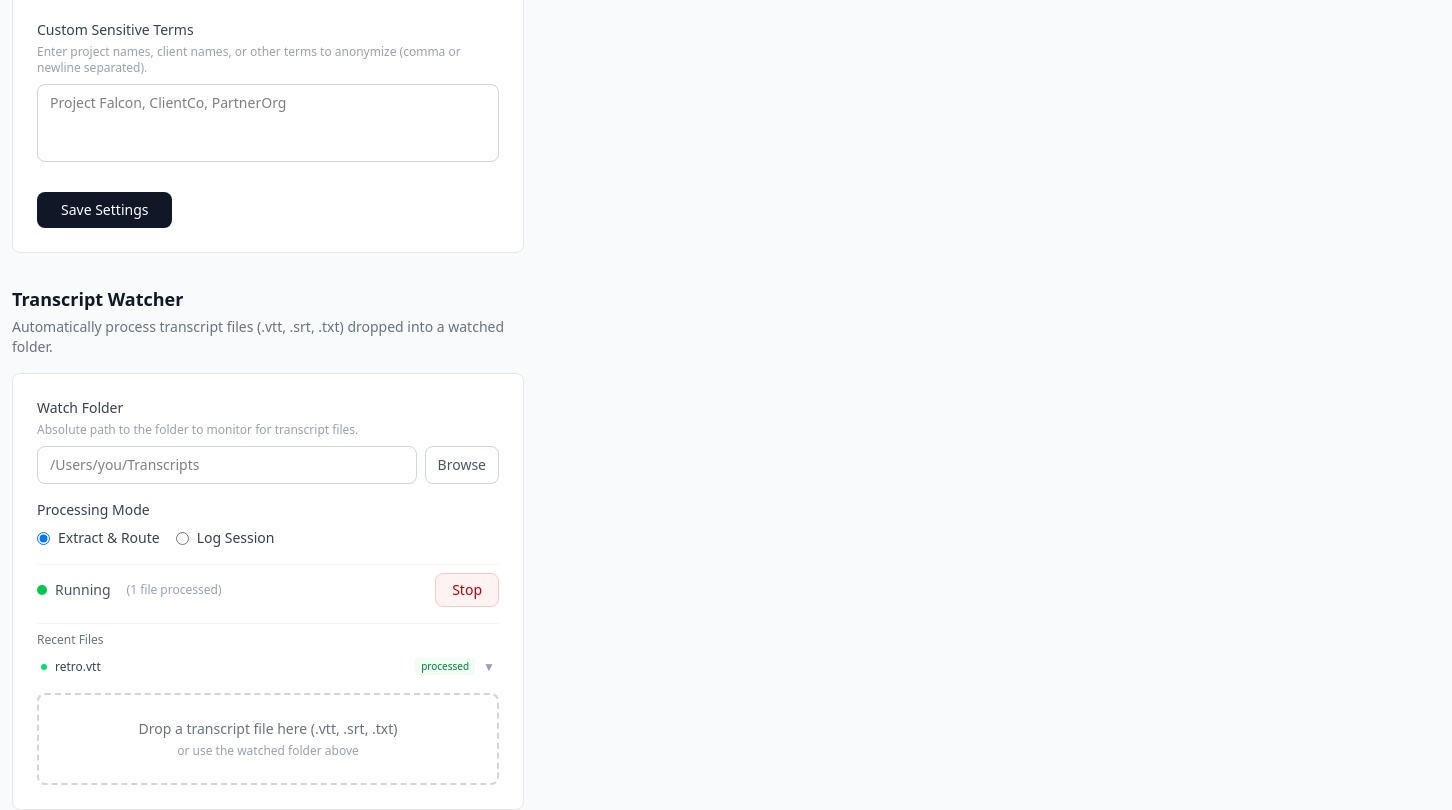
Test: Settings — Transcript Watcher › applies a suggestion from expanded results
(page scrolled)
Note: Expand and click Apply
Click the text "retro.vtt" at {"x": 78, "y": 666}, box [55,658,101,675]
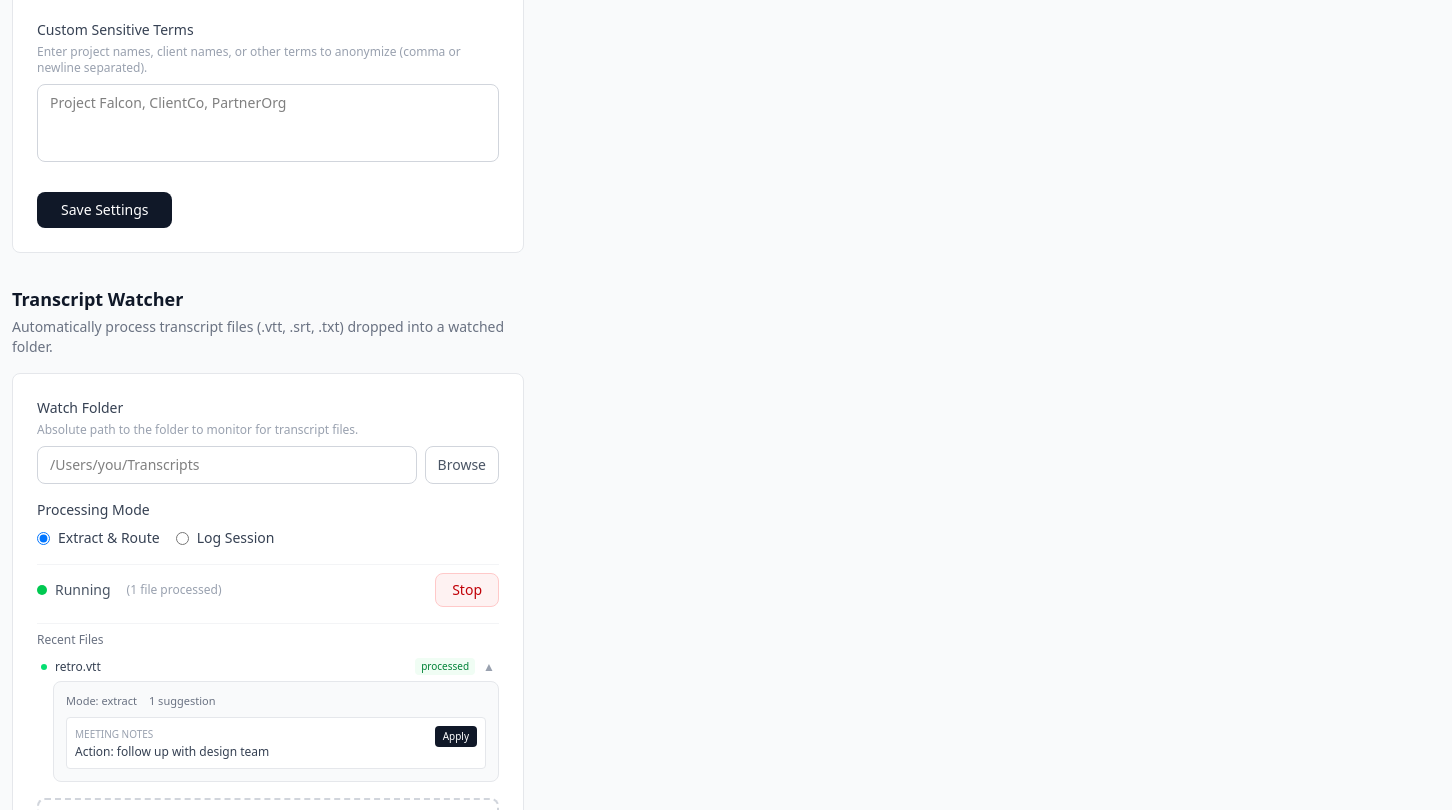
Check: the button "Apply" is shown
Click the button "Apply" at {"x": 456, "y": 737}, box [435,726,477,747]
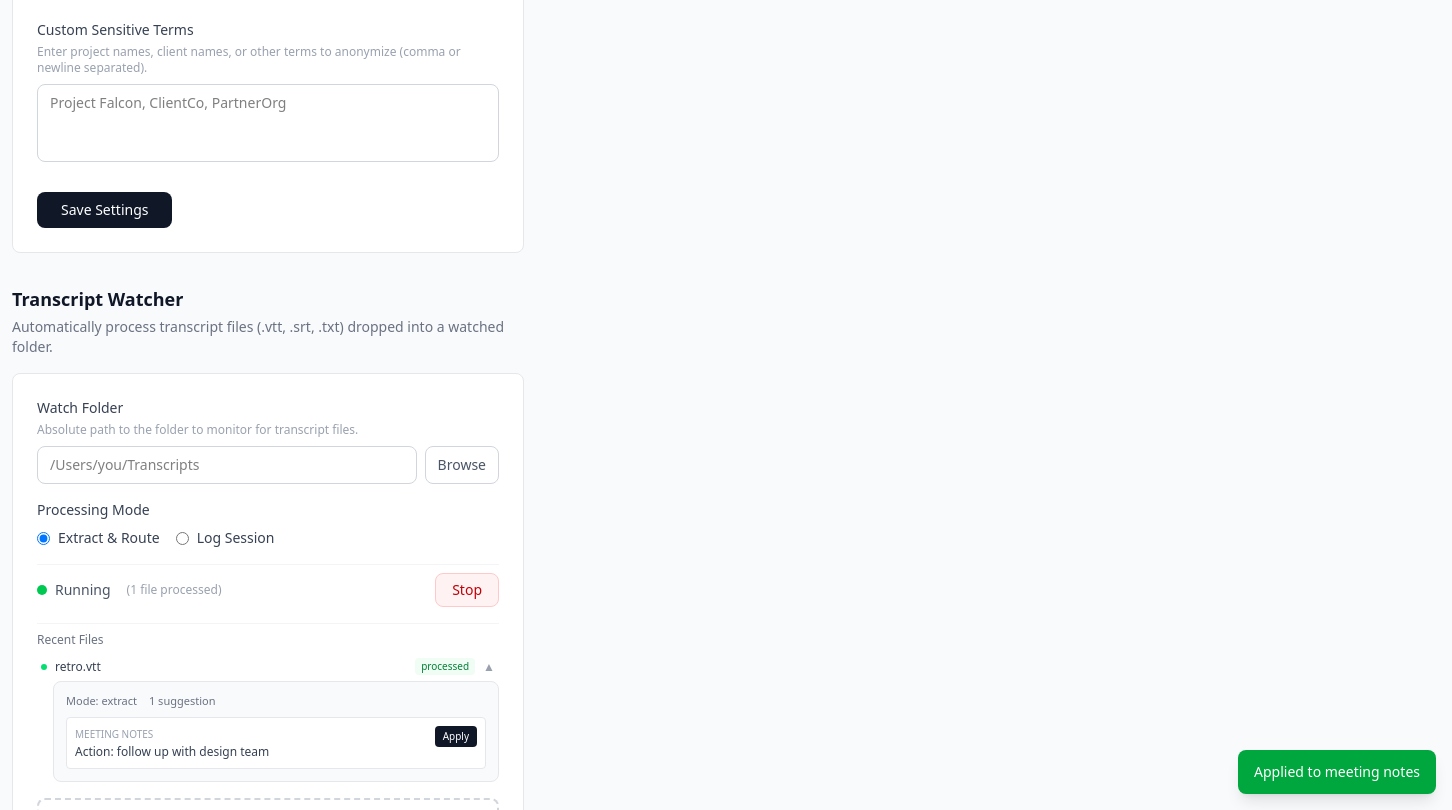
Check: the text "Applied to meeting notes" is shown, box [1238,750,1436,794]
